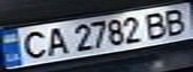2: (69, 20, 93, 54), (121, 14, 145, 44)
7: (90, 18, 109, 51)
8: (106, 16, 127, 47)
A: (42, 25, 69, 57)
B: (139, 9, 172, 40), (160, 7, 190, 37)
C: (15, 28, 51, 61)
